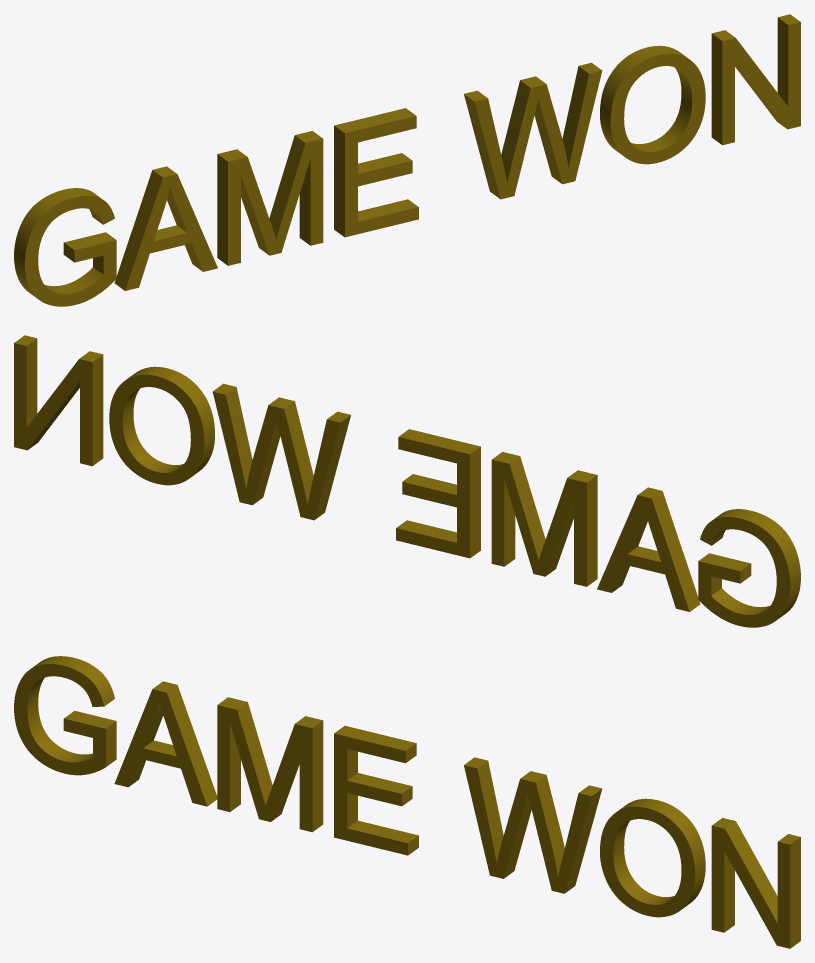
Rendered from gwon.obj.
3 renders of one model, top to bottom at view 1: azimuth 30°, elevation 25°; view 2: azimuth 150°, elevation 25°; view 3: azimuth 330°, elevation 25°, orthographic.
Parts seen in each view (by area): view 1: TextPlus001; view 2: TextPlus001; view 3: TextPlus001.
Part boxes in pixels (x1,y1,x2,y2): TextPlus001: (14, 14, 800, 306); TextPlus001: (14, 335, 800, 627); TextPlus001: (14, 656, 800, 948).
Bounding box in the file's own units: 125 × 16.57 × 3.
